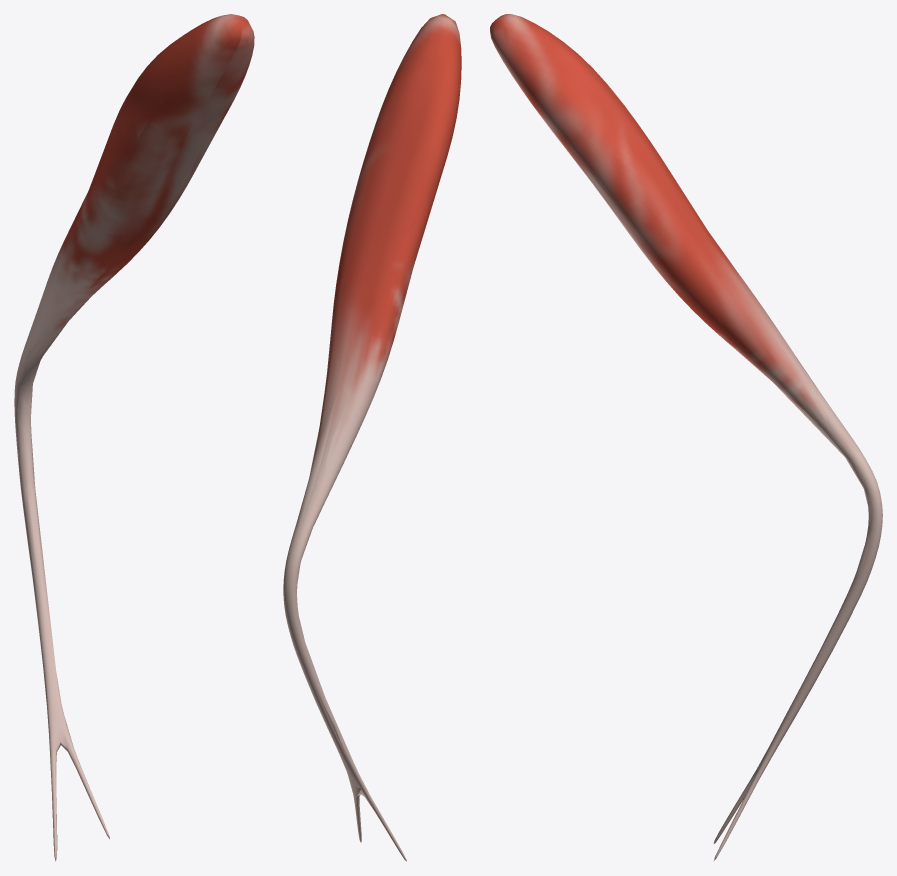
Rendered from L flexor digitorum superficialis.fbx.
3 renders of one model, left to right at view 1: azimuth 30°, elevation 25°; view 2: azimuth 150°, elevation 25°; view 3: azimuth 270°, elevation 25°, orthographic. The views are drawn at different scales.
Parts seen in each view (by area): view 1: L flexor digitorum superficialis, L flexor digitorum superficialis low; view 2: L flexor digitorum superficialis, L flexor digitorum superficialis low; view 3: L flexor digitorum superficialis, L flexor digitorum superficialis low.
Part boxes in pixels (x1,y1,x2,y2): L flexor digitorum superficialis: [14, 14, 254, 861]; L flexor digitorum superficialis low: [16, 17, 254, 814]; L flexor digitorum superficialis: [283, 14, 461, 861]; L flexor digitorum superficialis low: [284, 14, 460, 822]; L flexor digitorum superficialis: [490, 14, 882, 861]; L flexor digitorum superficialis low: [490, 14, 882, 817].
Size of the model in its own units: 3.09 by 25.32 by 10.49.
